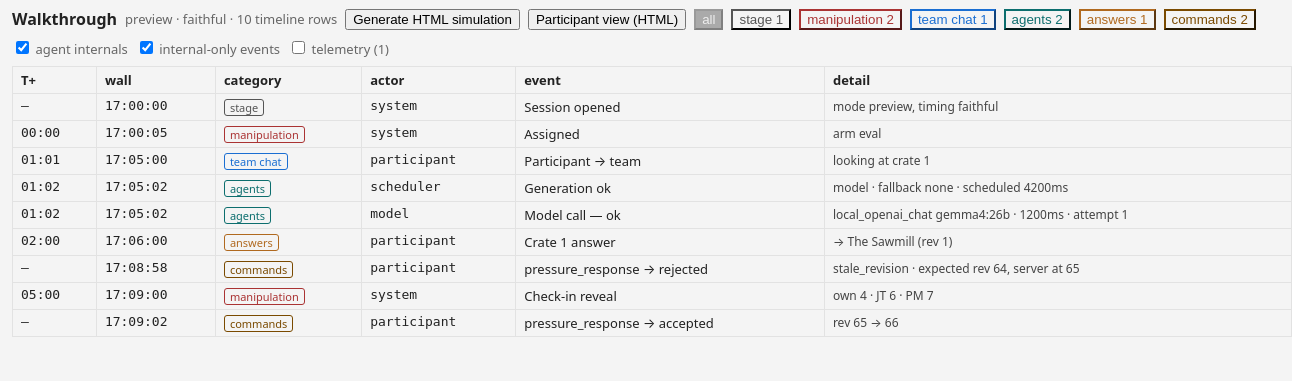
Walkthrough › renders a merged timeline and hides telemetry by default
Expected: the text "Session opened" is shown, [516, 94, 824, 120]
Expected: the text "arm eval" is shown, [824, 120, 1291, 148]
Click the checkbox labelled "telemetry (1)" at (299, 48), box [292, 41, 305, 54]
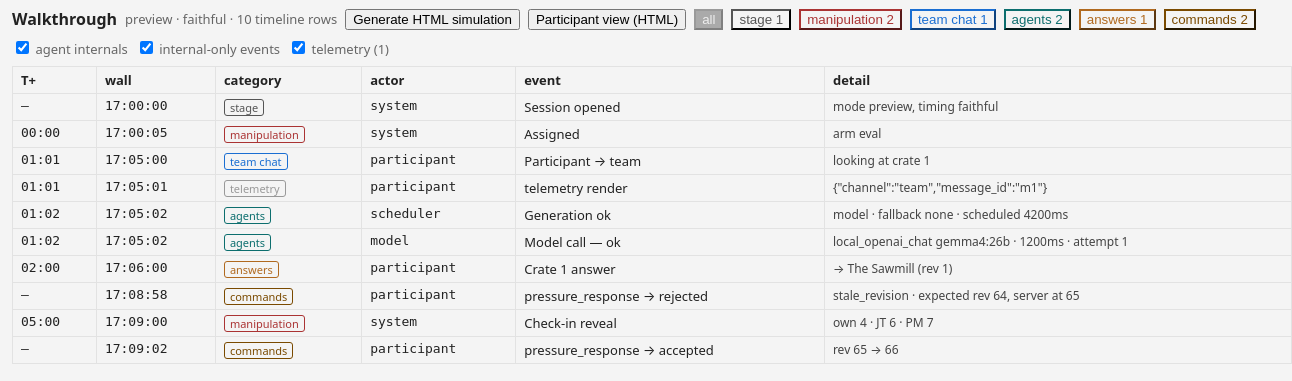
Result: the text "telemetry render" is shown at [516, 174, 824, 202]
Result: the text "pressure_response → rejected" is shown at [516, 282, 824, 310]
Result: the text "stale_revision · expected rev 64, server at 65" is shown at [824, 282, 1291, 310]
category filter narrows the feed
Click the button "answers 1" at (1117, 19), box [1079, 8, 1156, 30]
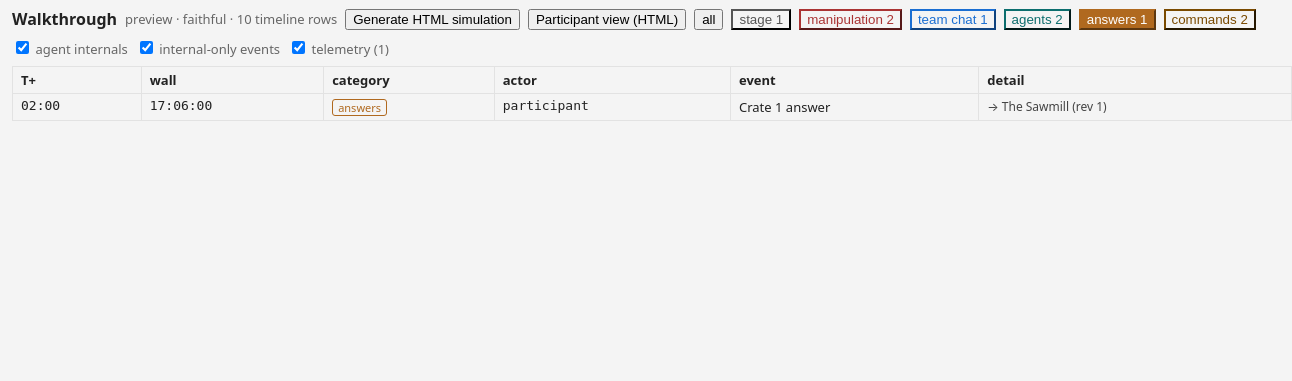
Result: the text "Session opened" is gone
Result: the text "→ The Sawmill (rev 1)" is shown at [979, 94, 1291, 120]
